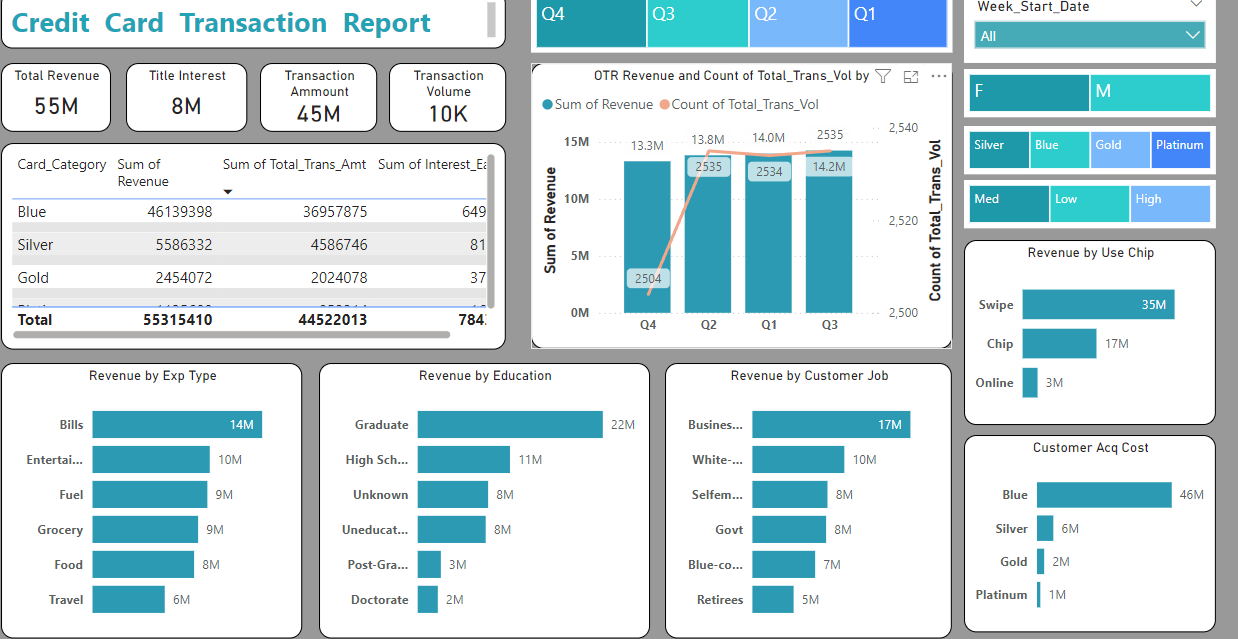

What the dashboard file says about the page in this screenshot:
{"tool":"powerbi","page":{"name":"Credit Card Transaction","canvas":[1280,720],"ordinal":1},"visuals":[{"type":"textbox","box":[9.2,29.2,490.8,55],"z":0},{"type":"lineClusteredColumnComboChart","title":"OTR Revenue and Count of Total_Trans_Vol by Qtr","fields":{"Category":["credit_card.Qtr"],"Y":["Sum(credit_card.Revenue)"],"Y2":["CountNonNull(credit_card.Total_Trans_Vol)"]},"box":[524.2,98.3,410,278.3],"z":1000},{"type":"barChart","title":"Revenue by Exp Type","fields":{"Y":["Sum(credit_card.Revenue)"],"Category":["credit_card.Exp Type"]},"box":[9.2,390,293.3,267.5],"z":2000},{"type":"barChart","title":"Revenue by Education","fields":{"Y":["Sum(credit_card.Revenue)"],"Category":["customer.Education_Level"]},"box":[318.3,390,321.7,267.5],"z":3000},{"type":"barChart","title":"Revenue by Customer Job","fields":{"Y":["Sum(credit_card.Revenue)"],"Category":["customer.Customer_Job"]},"box":[655,390,279.2,267.5],"z":4000},{"type":"barChart","title":"Customer Acq Cost","fields":{"Y":["Sum(credit_card.Revenue)"],"Category":["credit_card.Card_Category"]},"box":[945,460,245,191.7],"z":5000},{"type":"barChart","title":"Revenue by Use Chip","fields":{"Y":["Sum(credit_card.Revenue)"],"Category":["credit_card.Use Chip"]},"box":[945,270,245,180],"z":6000},{"type":"tableEx","fields":{"Values":["credit_card.Card_Category","Sum(credit_card.Revenue)","Sum(credit_card.Total_Trans_Amt)","Sum(credit_card.Interest_Earned)"]},"box":[9.2,175.8,490.8,200.8],"z":7000},{"type":"card","title":"Total Revenue","fields":{"Values":["Sum(credit_card.Revenue)"]},"box":[9.2,98.3,106.7,66.7],"z":8000},{"type":"card","title":"Transaction Ammount","fields":{"Values":["Sum(credit_card.Total_Trans_Amt)"]},"box":[260.8,98.3,114.2,66.7],"z":9000},{"type":"card","title":"Title Interest","fields":{"Values":["Sum(credit_card.Interest_Earned)"]},"box":[130,98.3,117.5,66.7],"z":10000},{"type":"card","title":"Transaction Volume","fields":{"Values":["CountNonNull(credit_card.Total_Trans_Vol)"]},"box":[385.8,98.3,114.2,66.7],"z":11000},{"type":"slicer","fields":{"Values":["credit_card.Week_Start_Date"]},"box":[945,29.2,245,69.2],"z":12000},{"type":"treemap","fields":{"Group":["credit_card.Qtr"],"Values":["Avg(credit_card.Client_Num)"]},"box":[524.2,29.2,410,59.2],"z":13000},{"type":"treemap","fields":{"Group":["customer.Gender"],"Values":["Avg(credit_card.Client_Num)"]},"box":[945,104.2,245,46.7],"z":14000},{"type":"treemap","fields":{"Group":["credit_card.Card_Category"],"Values":["Avg(credit_card.Client_Num)"]},"box":[945,159.2,245,46.7],"z":15000},{"type":"treemap","fields":{"Group":["customer.IncomeGroup"],"Values":["Avg(credit_card.Client_Num)"]},"box":[945,211.7,245,46.7],"z":16000}]}

Visuals, with their boxes on the page's 1280x720 design canvas (x1, y1, x2, y2). These are canvas units, not pixel positions in the 1238x639 screenshot, which may show the page scaled, cropped or inside an application window:
textbox: (left=9, top=29, right=500, bottom=84)
"OTR Revenue and Count of Total_Trans_Vol by Qtr" lineClusteredColumnComboChart: (left=524, top=98, right=934, bottom=377)
"Revenue by Exp Type" barChart: (left=9, top=390, right=302, bottom=658)
"Revenue by Education" barChart: (left=318, top=390, right=640, bottom=658)
"Revenue by Customer Job" barChart: (left=655, top=390, right=934, bottom=658)
"Customer Acq Cost" barChart: (left=945, top=460, right=1190, bottom=652)
"Revenue by Use Chip" barChart: (left=945, top=270, right=1190, bottom=450)
tableEx - credit_card.Card_Category x Sum(credit_card.Revenue): (left=9, top=176, right=500, bottom=377)
"Total Revenue" card: (left=9, top=98, right=116, bottom=165)
"Transaction Ammount" card: (left=261, top=98, right=375, bottom=165)
"Title Interest" card: (left=130, top=98, right=248, bottom=165)
"Transaction Volume" card: (left=386, top=98, right=500, bottom=165)
slicer - credit_card.Week_Start_Date: (left=945, top=29, right=1190, bottom=98)
treemap - credit_card.Qtr x Avg(credit_card.Client_Num): (left=524, top=29, right=934, bottom=88)
treemap - customer.Gender x Avg(credit_card.Client_Num): (left=945, top=104, right=1190, bottom=151)
treemap - credit_card.Card_Category x Avg(credit_card.Client_Num): (left=945, top=159, right=1190, bottom=206)
treemap - customer.IncomeGroup x Avg(credit_card.Client_Num): (left=945, top=212, right=1190, bottom=258)
